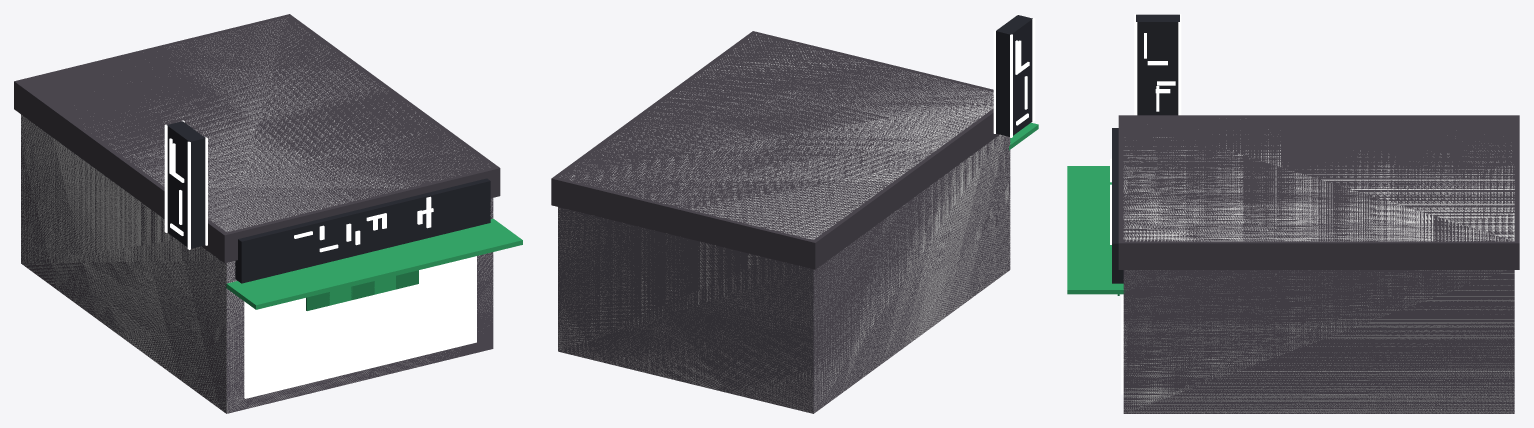
The model's file is tienda_kombini.glb.
3 views of the same model, side by side, from view 1: azimuth 30°, elevation 25°; view 2: azimuth 150°, elevation 25°; view 3: azimuth 270°, elevation 25° (orthographic). The views are drawn at different scales.
Visible parts, largest first — view 1: tienda_kombini_Malla, COL_0; view 2: tienda_kombini_Malla, COL_0; view 3: tienda_kombini_Malla, COL_0.
Part boxes in pixels (x1,y1,x2,y2): tienda_kombini_Malla: (14,14,522,413); COL_0: (21,19,493,413); tienda_kombini_Malla: (551,14,1038,413); COL_0: (558,34,1010,412); tienda_kombini_Malla: (1067,14,1519,413); COL_0: (1123,129,1514,413).
Size of the model in its own units: 6.82 by 5.9 by 9.25.
